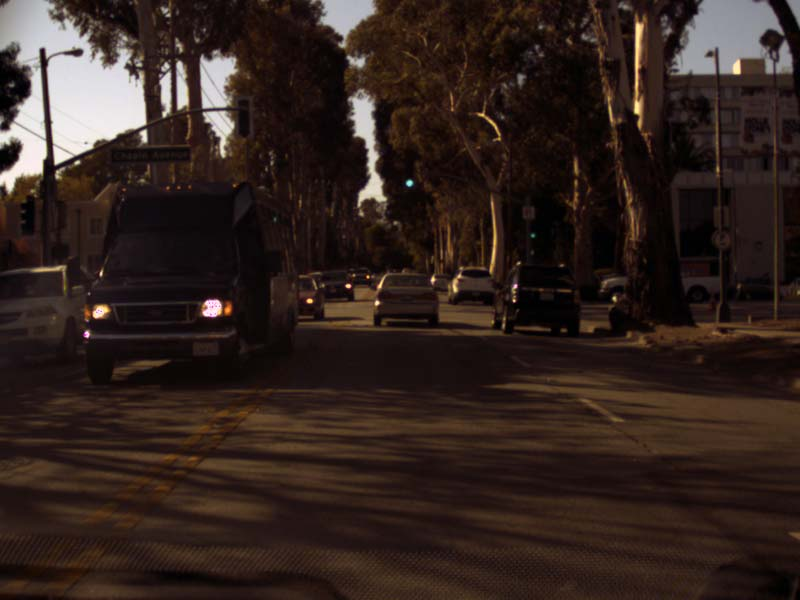Green: (402, 160, 415, 187), (529, 217, 537, 240)
